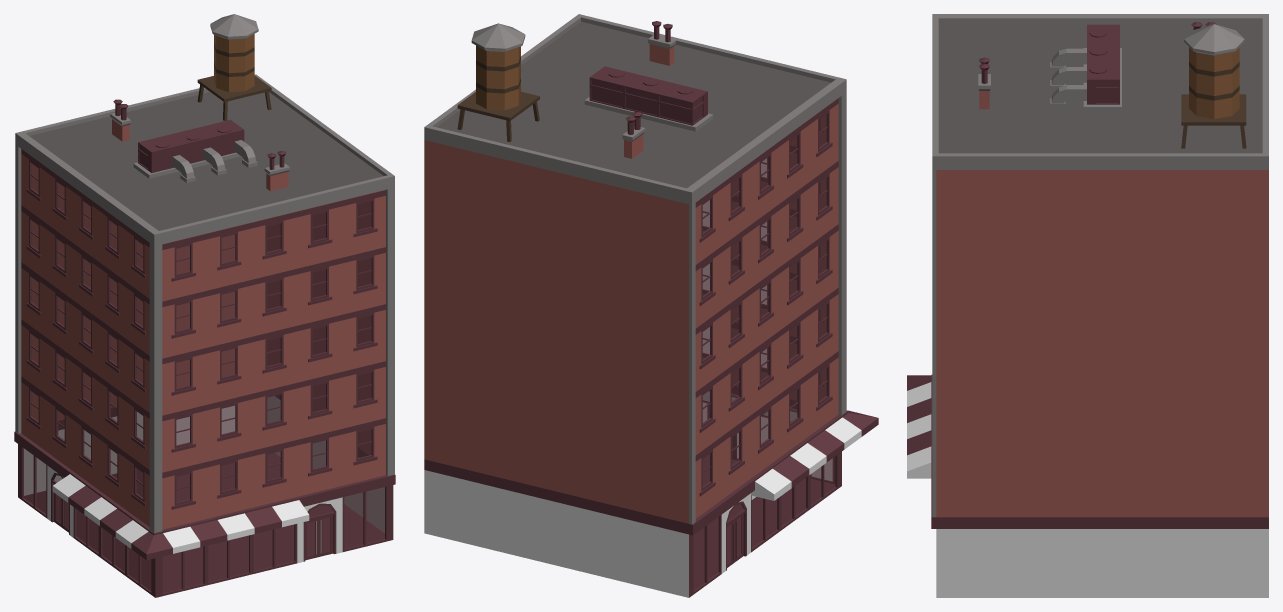
Rendered from building-block-5floor-corner.fbx.
The picture shows the model from 3 angles, left to right: view 1: azimuth 30°, elevation 25°; view 2: azimuth 150°, elevation 25°; view 3: azimuth 270°, elevation 25°; orthographic projection. The views are drawn at different scales.
Visible parts, largest first — view 1: building-block-5floor-corner; view 2: building-block-5floor-corner; view 3: building-block-5floor-corner.
Boxes of the visible parts, bbox=[...] form: building-block-5floor-corner: bbox=[14, 14, 395, 597]; building-block-5floor-corner: bbox=[424, 14, 878, 597]; building-block-5floor-corner: bbox=[907, 14, 1268, 597].
Size of the model in its own units: 14.25 by 23.81 by 14.25.
